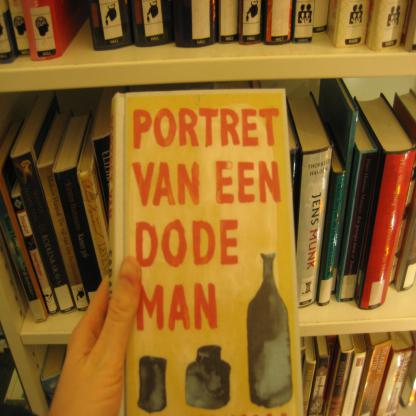book: (107, 90, 296, 416), (287, 76, 415, 314), (0, 93, 111, 324), (0, 0, 415, 55), (299, 331, 416, 416), (37, 346, 70, 412), (3, 368, 27, 406)
